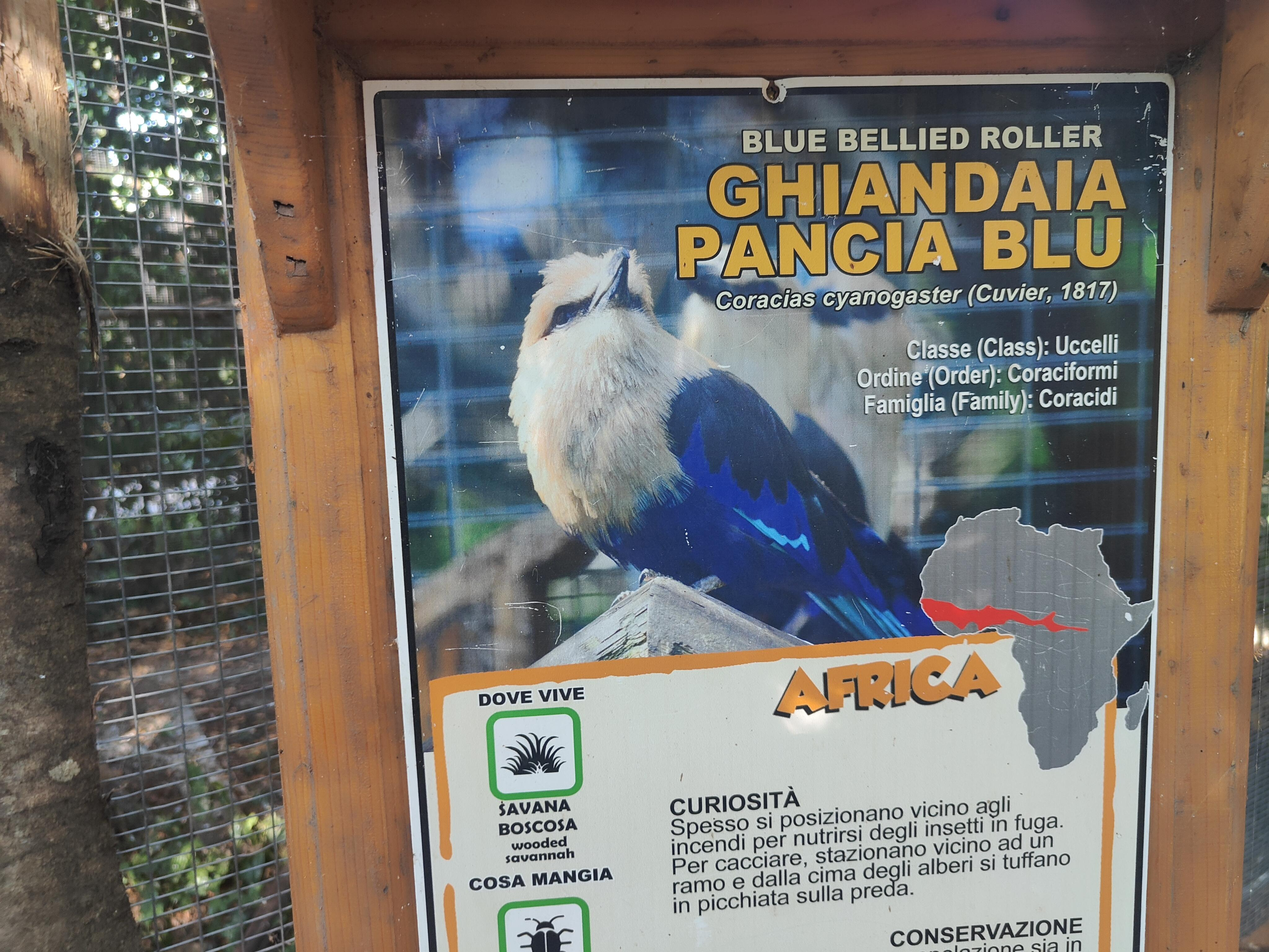apple: (508, 247, 911, 640)
